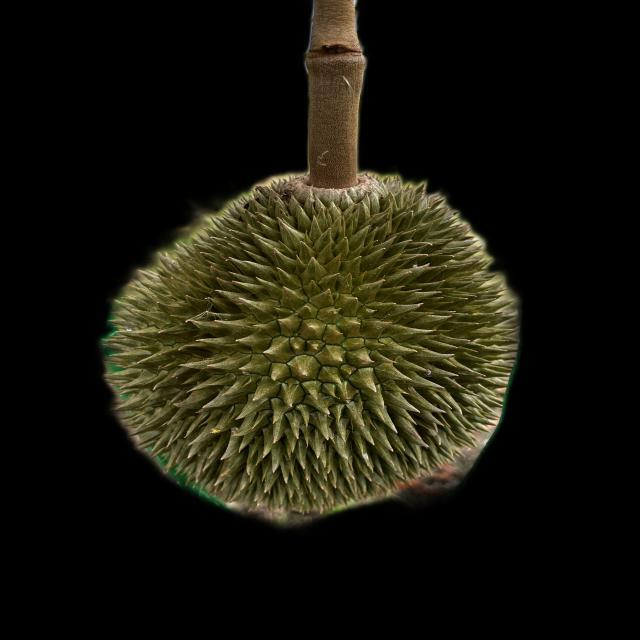immature: (109, 162, 525, 518)
